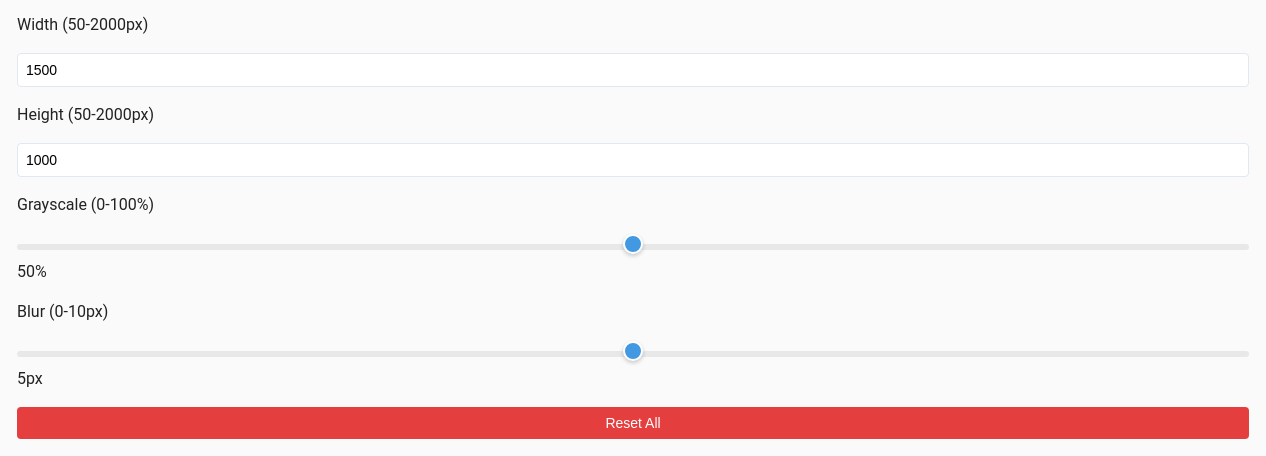
it: ImageEditorControls › should reset all values when reset button is clicked
Expected: the 1st number field showing "1500" is shown, [17,53,1249,87]
Expected: the 2nd number field showing "1000" is shown, [17,143,1249,177]
Click reset button
Click the button "Reset All" at coordinates (633, 423), box [17,407,1249,439]
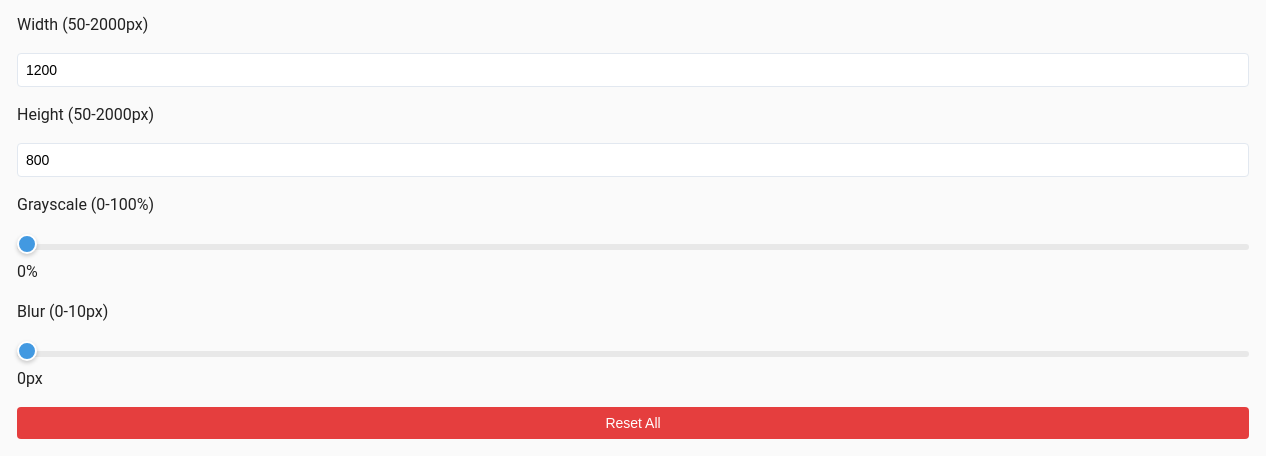
Expected: the number of sliders showing "0" is 2, [17,244,1249,250]; [17,351,1249,357]
Expected: the 1st number field showing "1200" is shown, [17,53,1249,87]
Expected: the 2nd number field showing "800" is shown, [17,143,1249,177]
